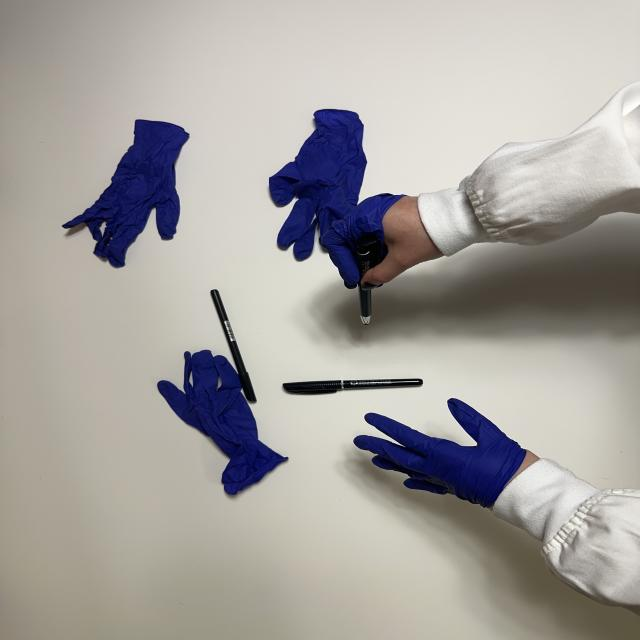glove_partial: (352, 397, 548, 509), (317, 193, 448, 290)
